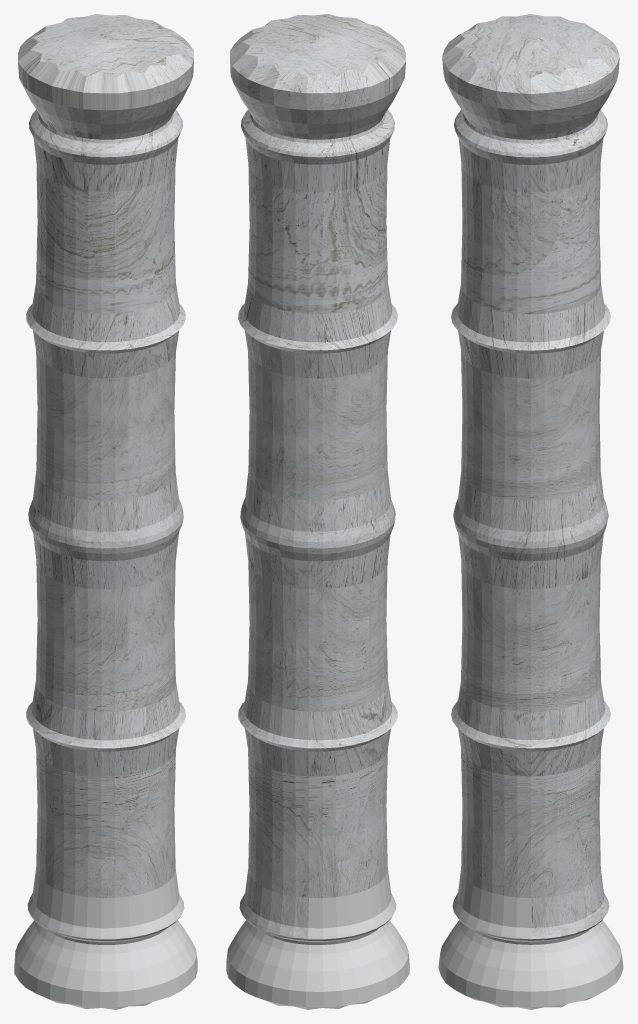
Rendered from Column_Cylinder_C.fbx.
3 views of the same model, side by side, from view 1: azimuth 30°, elevation 25°; view 2: azimuth 150°, elevation 25°; view 3: azimuth 270°, elevation 25° (orthographic).
Visible parts, largest first — view 1: Column_Cyl_C; view 2: Column_Cyl_C; view 3: Column_Cyl_C.
Boxes of the visible parts, left/top/right/bottom form: Column_Cyl_C: left=14, top=14, right=197, bottom=1009; Column_Cyl_C: left=226, top=14, right=409, bottom=1009; Column_Cyl_C: left=438, top=14, right=623, bottom=1009.
Size of the model in its own units: 382 by 2150 by 382.
